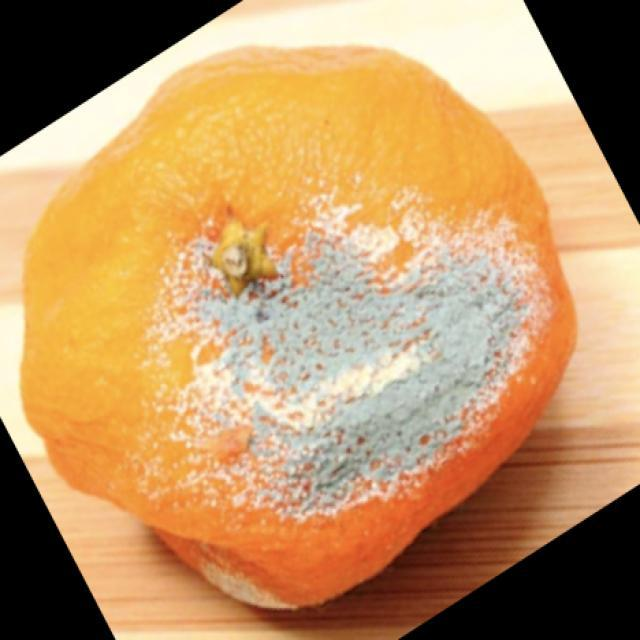sedikit-busuk: (14, 41, 580, 614), (184, 229, 530, 520)
